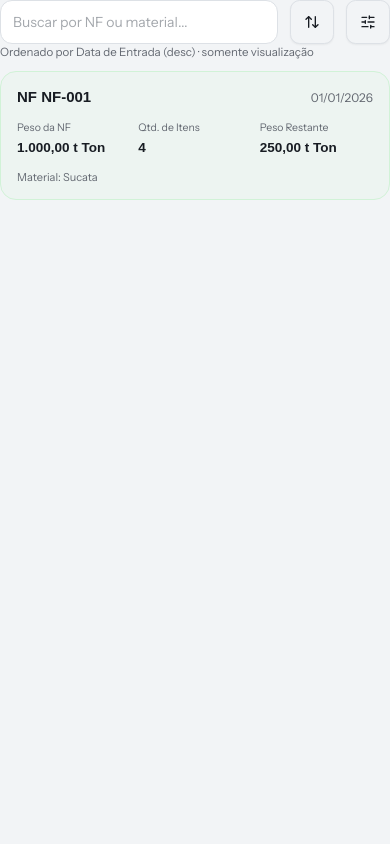
Scenario: StockSection › keeps the modal from crashing if the selected row disappears from rows while open
The width and height of the screenshot is (390, 844).
Click the button "NF-001": coordinates (195, 136) [0, 71, 389, 200]
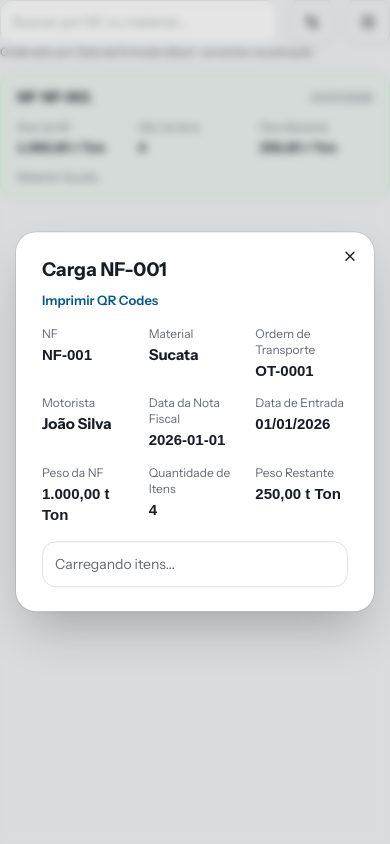
Check: the heading "Carga NF-001" is shown, box [42, 258, 167, 281]
